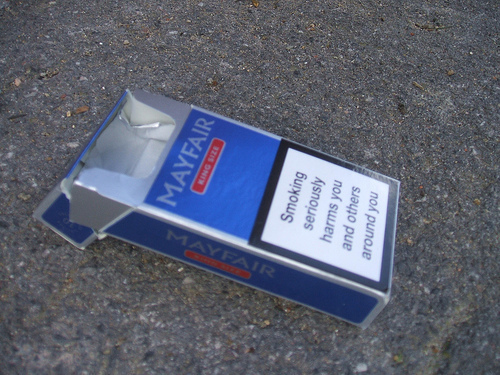litter: (35, 84, 401, 333)
